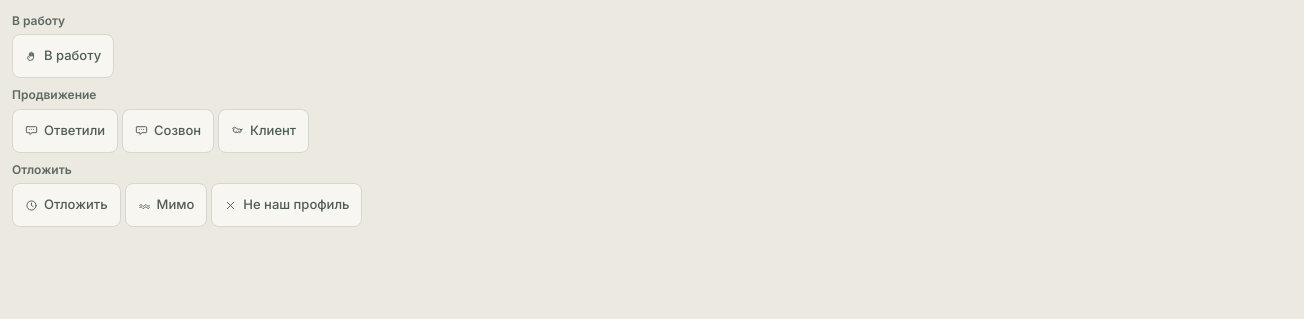
FeedbackButtons motion and status feedback › preserves the note draft when a skip mutation is rejected
Click the button "Не наш профиль" at (287,205), box [211,183,362,227]
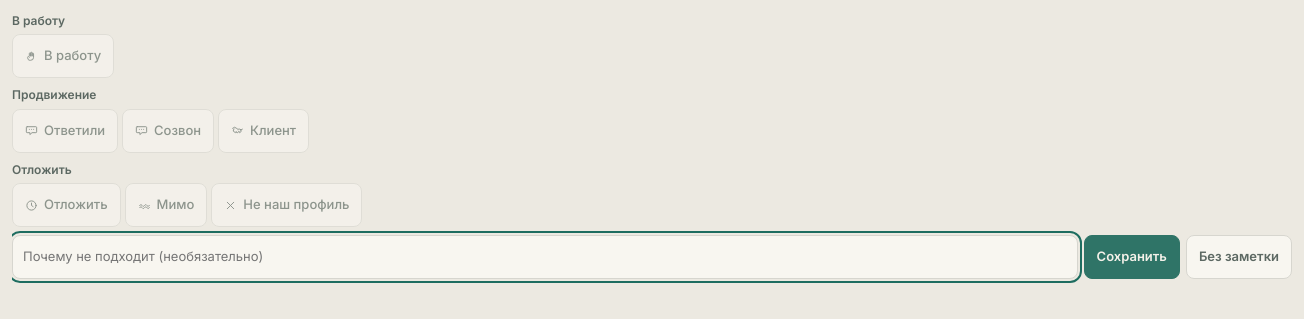
Type "Черновик для возможного Save" into the field named "Заметка к решению" at (545,257), box [12,235,1078,279]
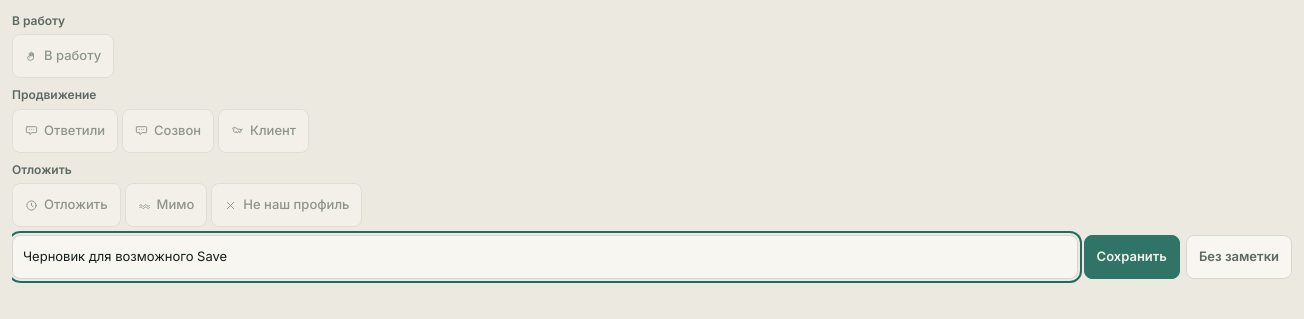
Click the button "Без заметки" at (1239,257), box [1186,235,1292,279]
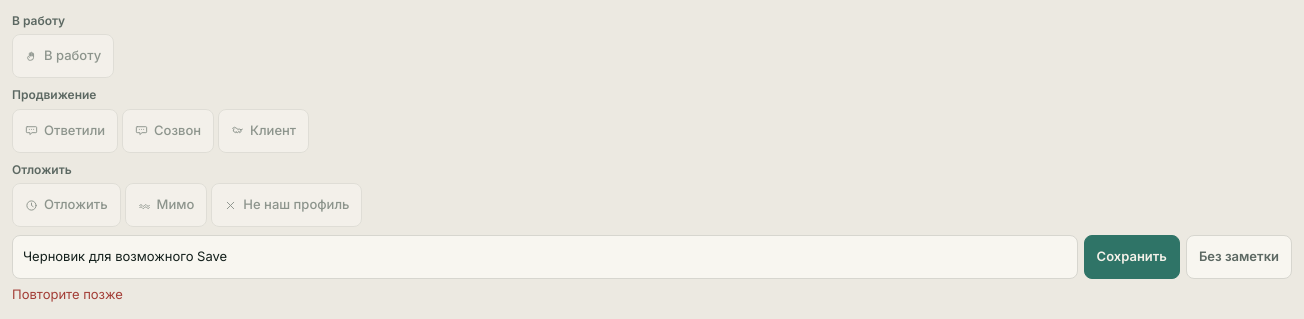
Now the message reads "Повторите позже", box [12,286,123,302]
